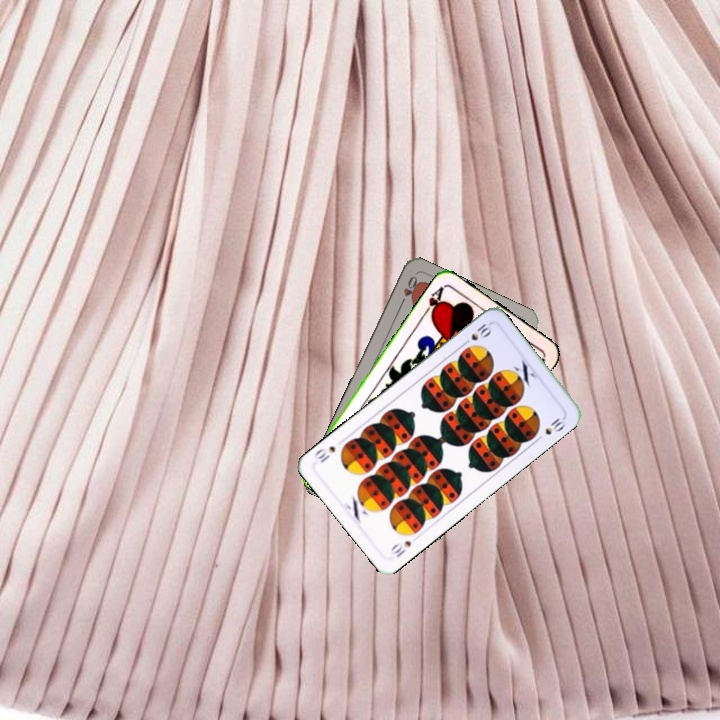HA: (419, 282, 446, 321)
HO: (395, 272, 420, 310)
S10: (458, 318, 495, 348), (386, 536, 414, 560)
